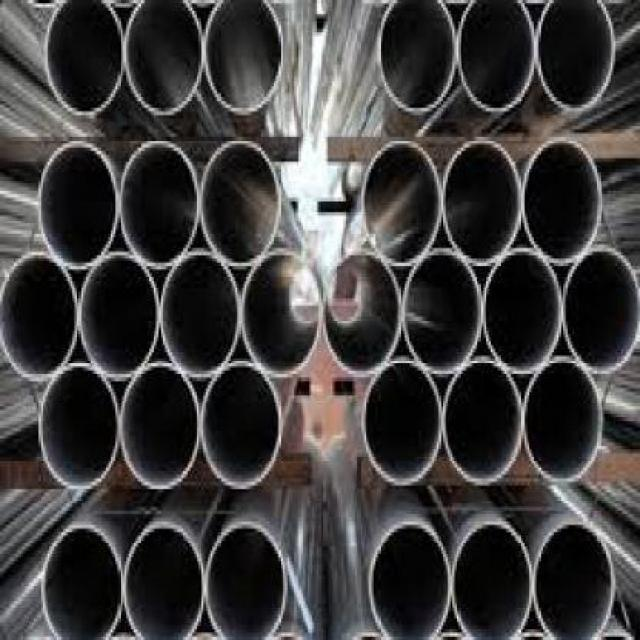pipe: (516, 356, 610, 487), (30, 358, 121, 493), (196, 135, 287, 269), (114, 360, 205, 494), (436, 134, 527, 267), (236, 249, 327, 382), (115, 136, 204, 270), (438, 357, 527, 490), (477, 244, 568, 373), (195, 360, 283, 493), (359, 133, 444, 270), (154, 253, 245, 379), (35, 137, 121, 270), (528, 520, 622, 640), (77, 250, 163, 381), (397, 249, 483, 380), (356, 356, 442, 487), (518, 137, 607, 263), (558, 240, 640, 376), (320, 250, 403, 381), (39, 517, 127, 640), (0, 249, 80, 383), (450, 520, 539, 640), (201, 518, 287, 640), (366, 518, 452, 640), (120, 523, 209, 640), (38, 0, 126, 118), (199, 0, 288, 115), (370, 0, 458, 115), (119, 0, 206, 115), (452, 0, 537, 117), (532, 0, 618, 115)
